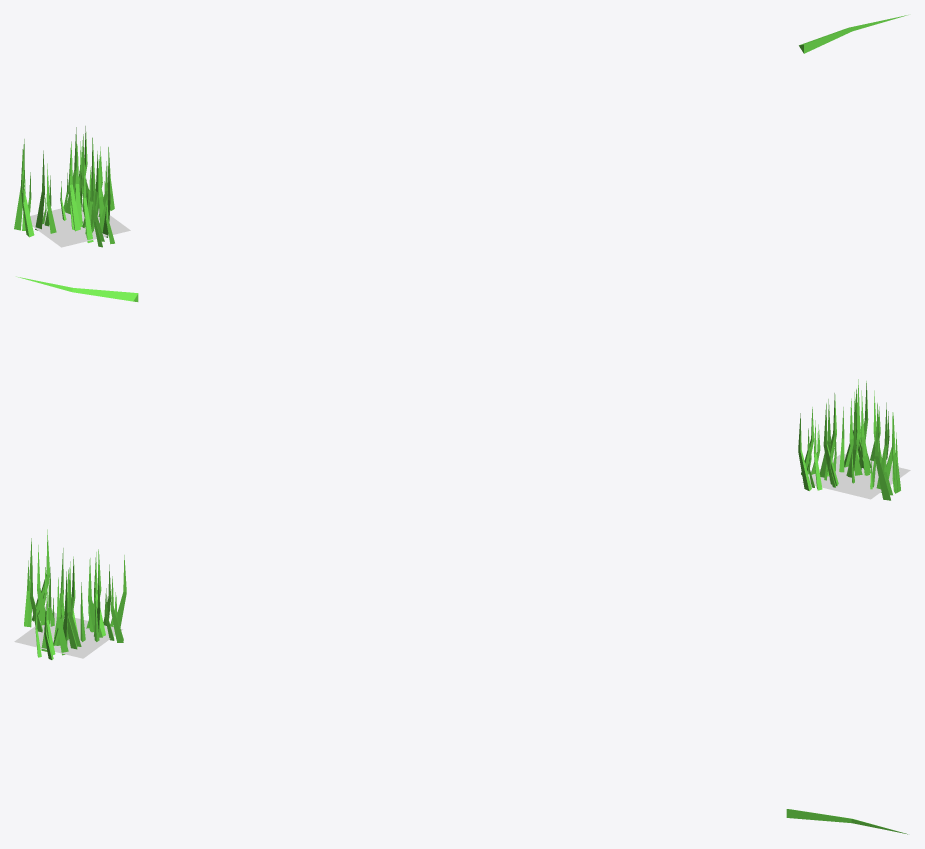
The model's file is rumput.fbx.
The picture shows the model from 3 angles, top to bottom: view 1: azimuth 30°, elevation 25°; view 2: azimuth 150°, elevation 25°; view 3: azimuth 330°, elevation 25°; orthographic projection.
Parts seen in each view (by area): view 1: Plane, Cone; view 2: Plane, Cone; view 3: Plane, Cone.
Boxes of the visible parts, x1,y1,x2,y2 form: Plane: [22, 203, 130, 247]; Cone: [799, 15, 907, 53]; Plane: [802, 454, 910, 499]; Cone: [16, 276, 138, 301]; Plane: [14, 612, 122, 658]; Cone: [786, 809, 907, 834].
Size of the model in its own units: 813 by 80.17 by 84.47.
